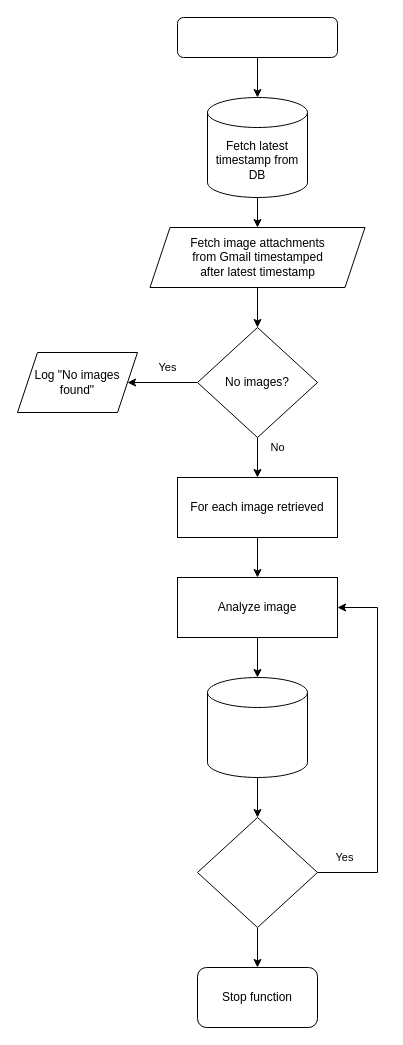
Image size: 403x1045. Some labels were removed from this diagram. Here are the shapes that lost their labels. From the top down, the centre of each, then its label:
(x=257, y=37): Azure Function time trigger 08:00
(x=257, y=727): Store metadata in DB
(x=257, y=872): More images to process?
